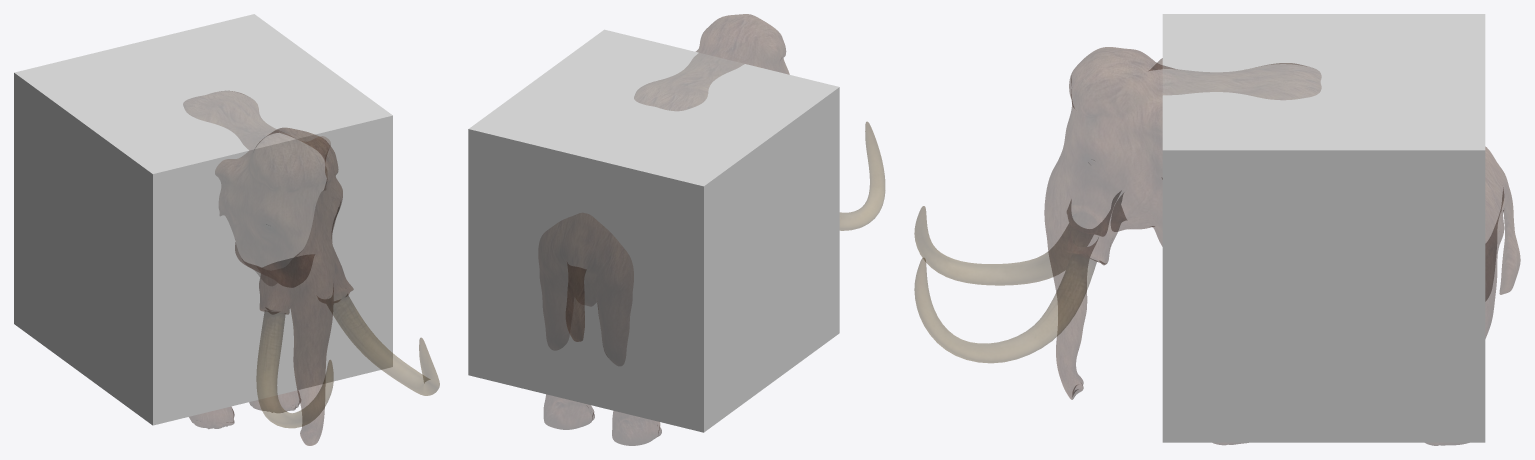
File: Mamoth.glb
The picture shows the model from 3 angles, left to right: view 1: azimuth 30°, elevation 25°; view 2: azimuth 150°, elevation 25°; view 3: azimuth 270°, elevation 25°; orthographic projection. The views are drawn at different scales.
Visible parts, largest first — view 1: Cube, mammmoth; view 2: Cube, mammmoth; view 3: Cube, mammmoth.
Part boxes in pixels (left/top/right/bottom): Cube: left=14, top=14, right=392, bottom=425; mammmoth: left=183, top=91, right=439, bottom=445; Cube: left=468, top=29, right=839, bottom=432; mammmoth: left=538, top=14, right=885, bottom=445; Cube: left=1162, top=14, right=1485, bottom=442; mammmoth: left=914, top=47, right=1520, bottom=445.
Size of the model in its own units: 2 by 2.51 by 3.76.
Materials: 3 (2 with a texture image).
